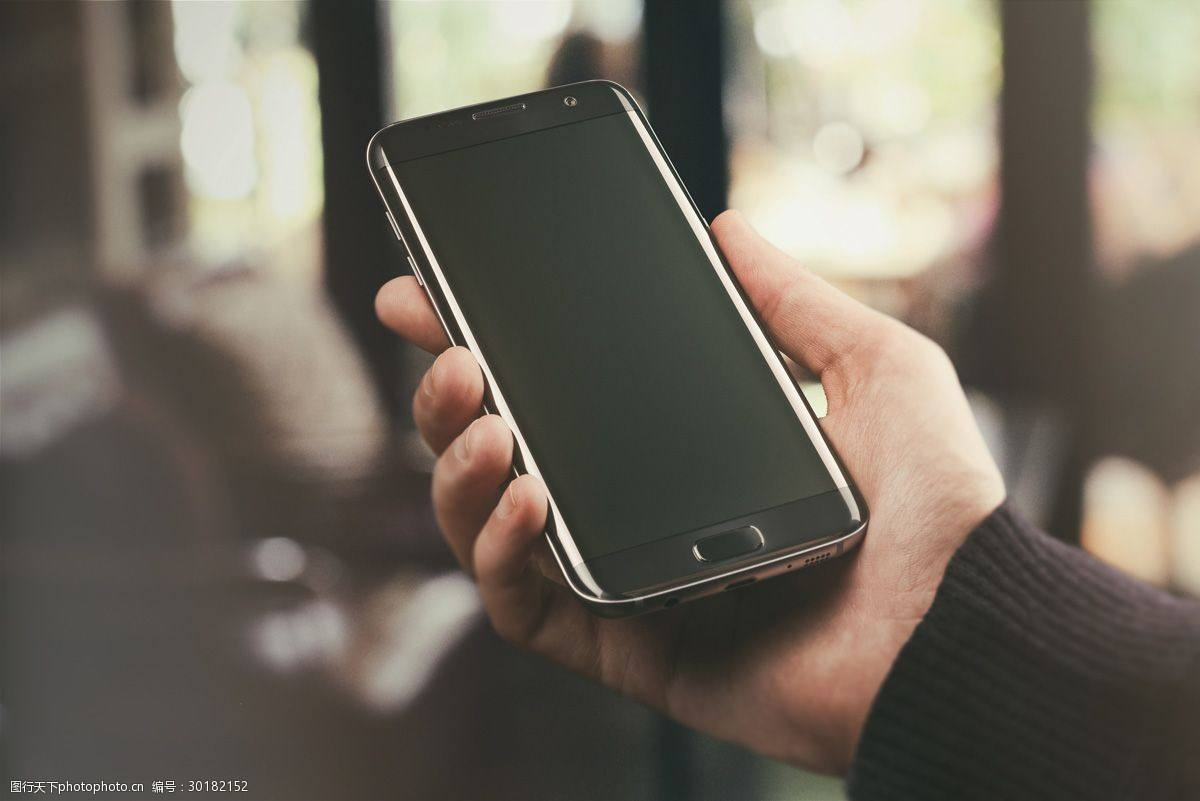phone: (332, 73, 1007, 739)
